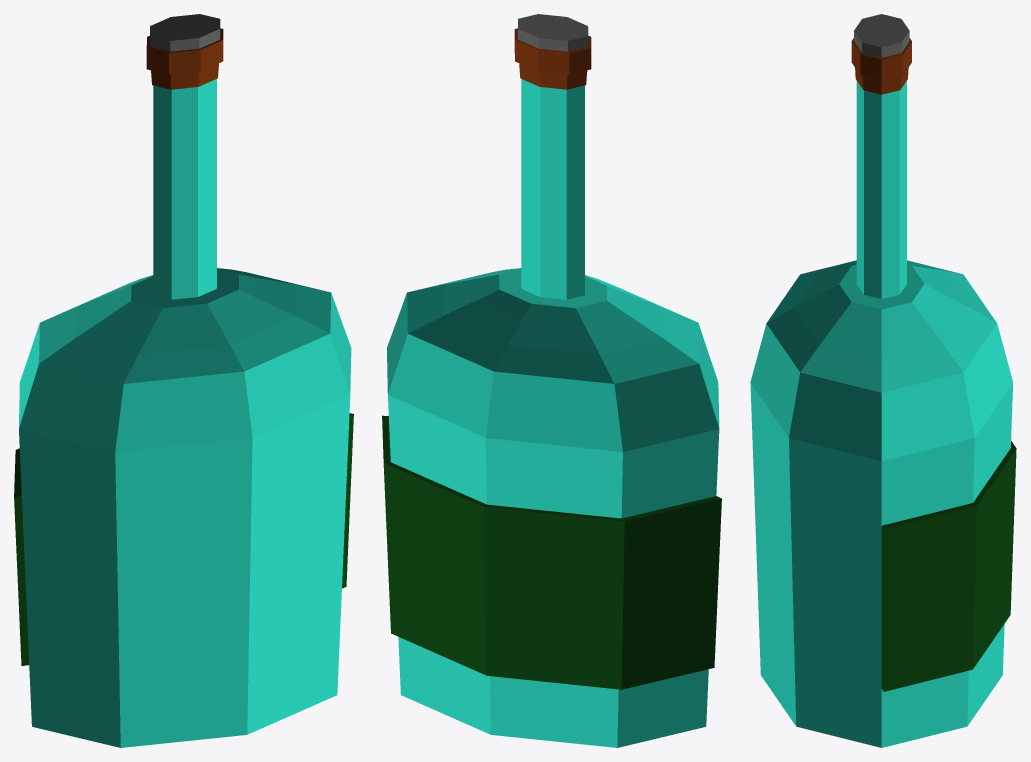
File: Bottle 7.fbx
3 renders of one model, left to right at view 1: azimuth 30°, elevation 25°; view 2: azimuth 150°, elevation 25°; view 3: azimuth 270°, elevation 25°, orthographic. The views are drawn at different scales.
Visible parts, largest first — view 1: Node 0; view 2: Node 0; view 3: Node 0.
Boxes of the visible parts, x1,y1,x2,y2 form: Node 0: [14, 14, 353, 747]; Node 0: [382, 14, 721, 747]; Node 0: [750, 14, 1016, 747].
Size of the model in its own units: 0.1753 by 0.4686 by 0.2518.
